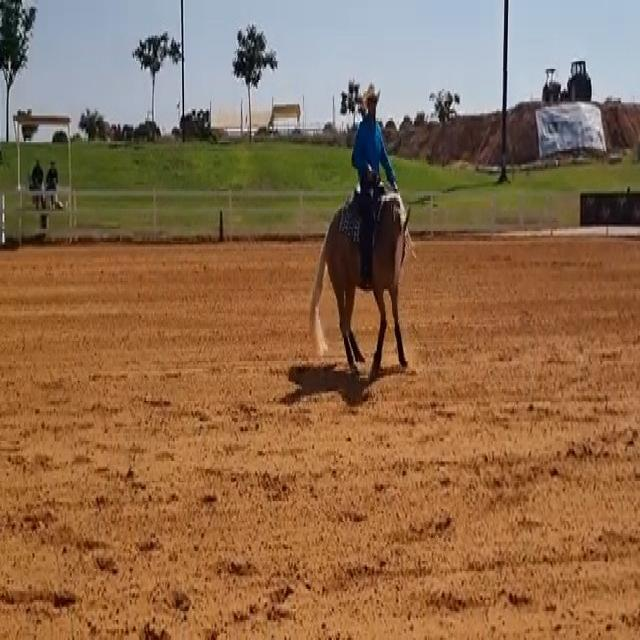horse: (307, 185, 414, 382)
